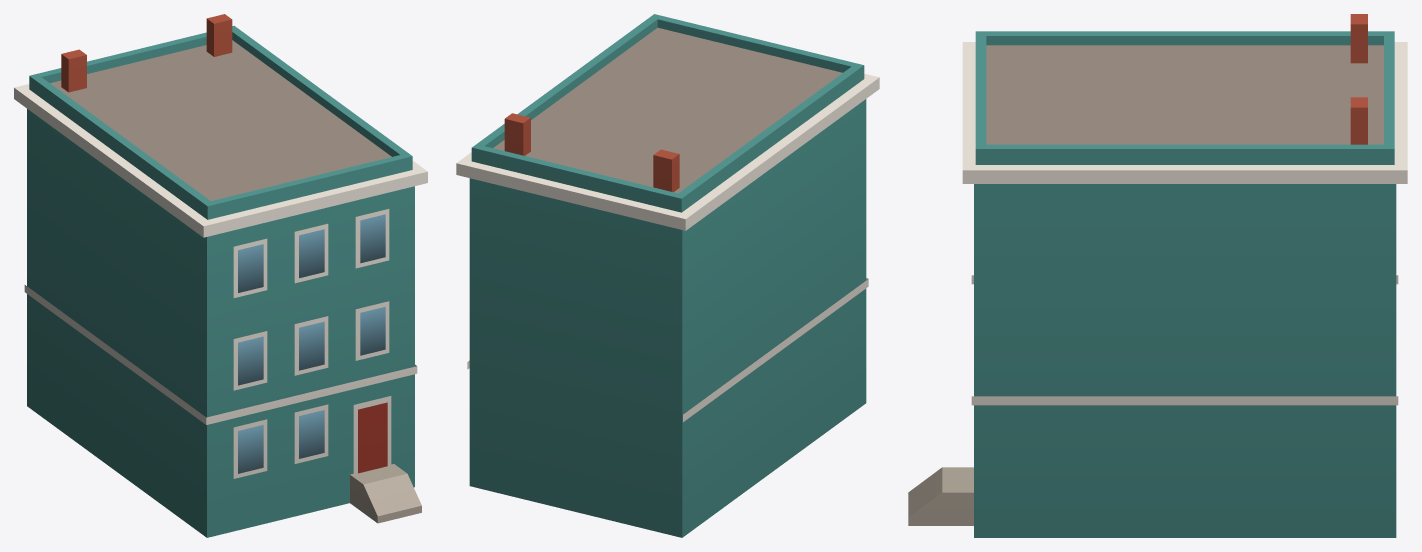
File: beacon_n1_far.glb
The picture shows the model from 3 angles, left to right: view 1: azimuth 30°, elevation 25°; view 2: azimuth 150°, elevation 25°; view 3: azimuth 270°, elevation 25°; orthographic projection. The views are drawn at different scales.
Visible parts, largest first — view 1: beacon_n1_far; view 2: beacon_n1_far; view 3: beacon_n1_far.
Boxes of the visible parts, x1,y1,x2,y2 form: beacon_n1_far: (14, 14, 427, 537); beacon_n1_far: (456, 14, 879, 537); beacon_n1_far: (908, 14, 1407, 537).
Bounding box in the file's own units: 8.64 × 13.09 × 14.18.
Materials: 1 (1 with a texture image).
